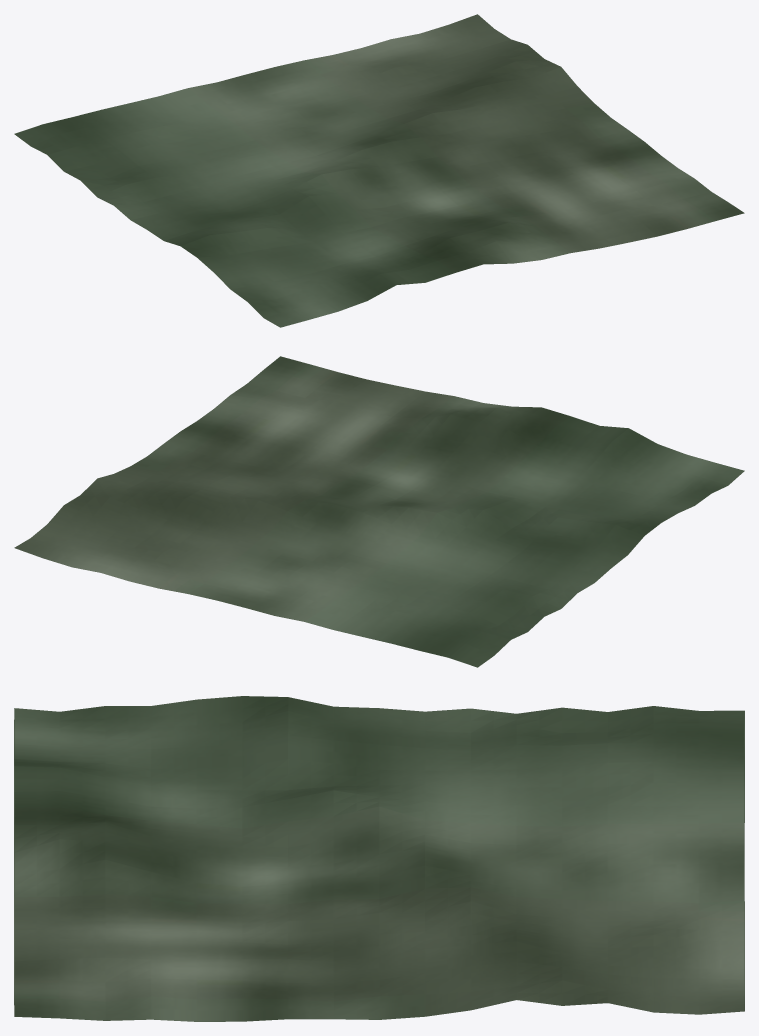
3 views of the same model, one above another, from view 1: azimuth 30°, elevation 25°; view 2: azimuth 150°, elevation 25°; view 3: azimuth 270°, elevation 25° (orthographic). The views are drawn at different scales.
Size of the model in its own units: 15586 by 692 by 15510.
1 material, 1 textured.
